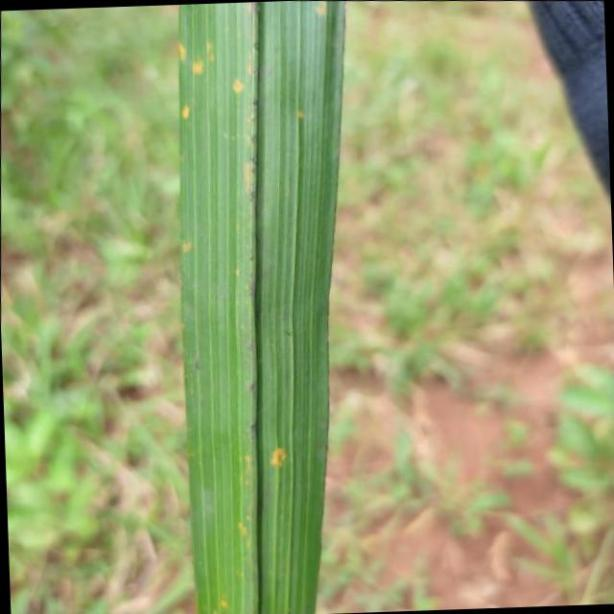Kalium: (178, 0, 346, 614)
